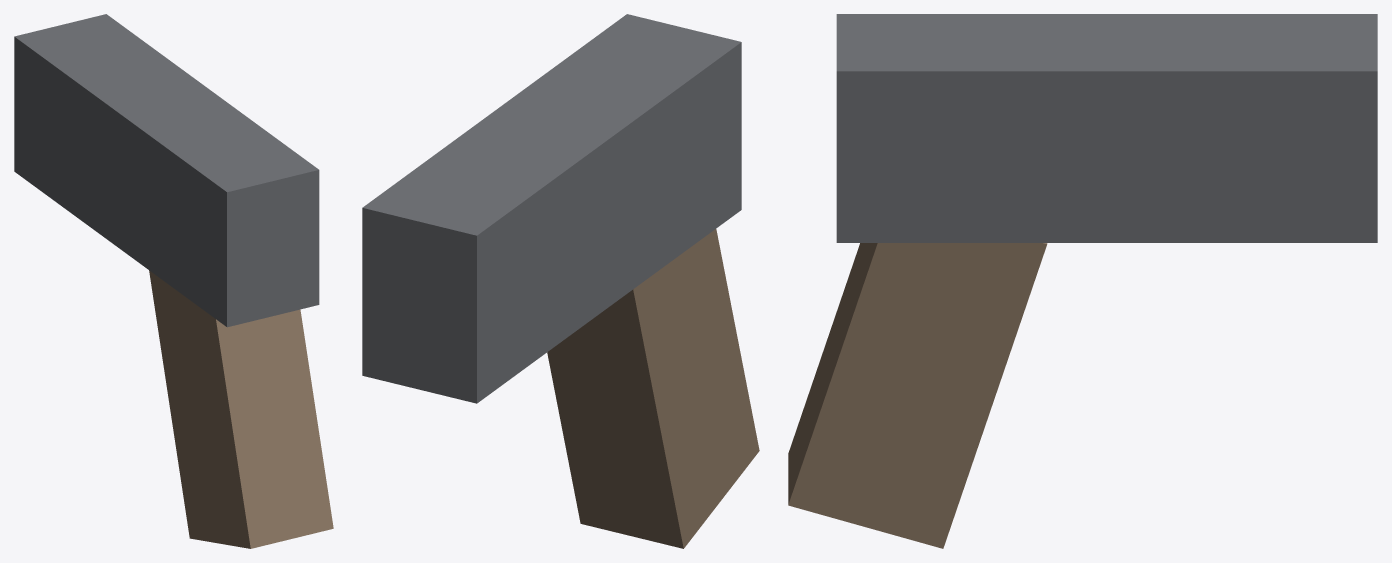
Rendered from gun_pistol.glb.
The picture shows the model from 3 angles, left to right: view 1: azimuth 30°, elevation 25°; view 2: azimuth 150°, elevation 25°; view 3: azimuth 270°, elevation 25°; orthographic projection. The views are drawn at different scales.
Parts seen in each view (by area): view 1: Gun_pistol; view 2: Gun_pistol; view 3: Gun_pistol.
Part boxes in pixels (left/top/right/bottom): Gun_pistol: left=14, top=14, right=333, bottom=548; Gun_pistol: left=362, top=14, right=759, bottom=548; Gun_pistol: left=788, top=14, right=1377, bottom=548.
Size of the model in its own units: 0.05 by 0.196 by 0.2179.
